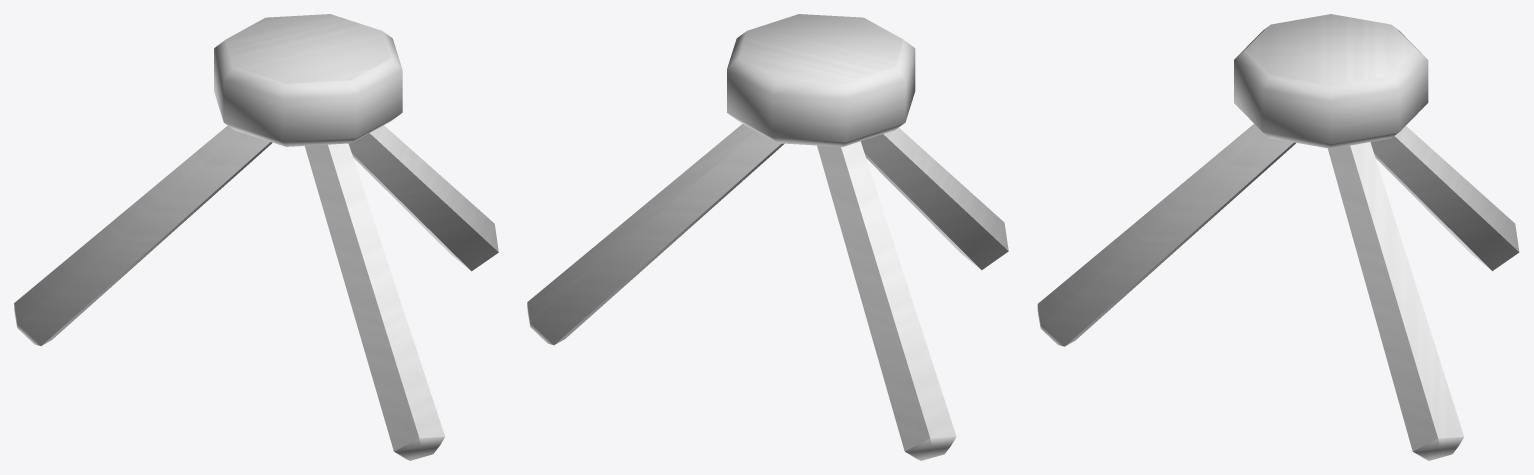
File: turret_mini.obj
3 renders of one model, left to right at view 1: azimuth 30°, elevation 25°; view 2: azimuth 150°, elevation 25°; view 3: azimuth 270°, elevation 25°, orthographic.
Parts seen in each view (by area): view 1: source_part_03, source_part_02, source_part_01, source_part_00; view 2: source_part_03, source_part_01, source_part_00, source_part_02; view 3: source_part_03, source_part_00, source_part_02, source_part_01.
Part boxes in pixels (box(x1,y1,x2,y2)): source_part_03: box(214, 14, 402, 146); source_part_02: box(305, 143, 445, 460); source_part_01: box(14, 125, 272, 345); source_part_00: box(348, 125, 498, 271); source_part_03: box(727, 14, 915, 146); source_part_01: box(817, 141, 956, 460); source_part_00: box(527, 124, 784, 345); source_part_02: box(861, 127, 1008, 270); source_part_03: box(1234, 14, 1428, 148); source_part_00: box(1328, 142, 1464, 460); source_part_02: box(1037, 124, 1295, 346); source_part_01: box(1370, 126, 1519, 270).
Bounding box in the file's own units: 0.7511 × 0.4869 × 0.6942.
